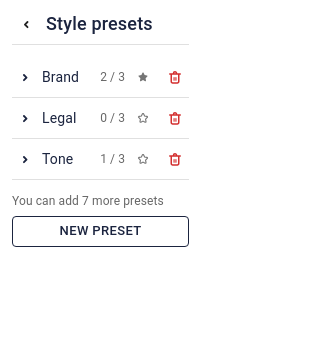
Test: a row, expanded (contract: one line per language the space has — every one, whether the preset covers it or not, in the order `languages` gives them, each a but › names a language the preset has no entry for "<preset name> — <language name>, not set"
Click the button named "Expand Legal — 0 of 3 languages configured" at {"x": 47, "y": 118}, box 12,101 -> 81,135
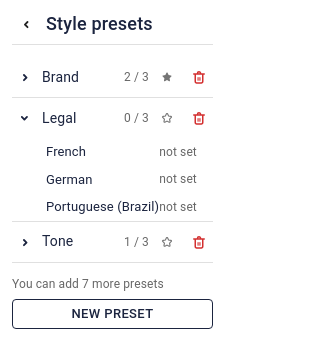
Expected: the button named "Legal — French, not set" is shown, 46,144 -> 197,159
